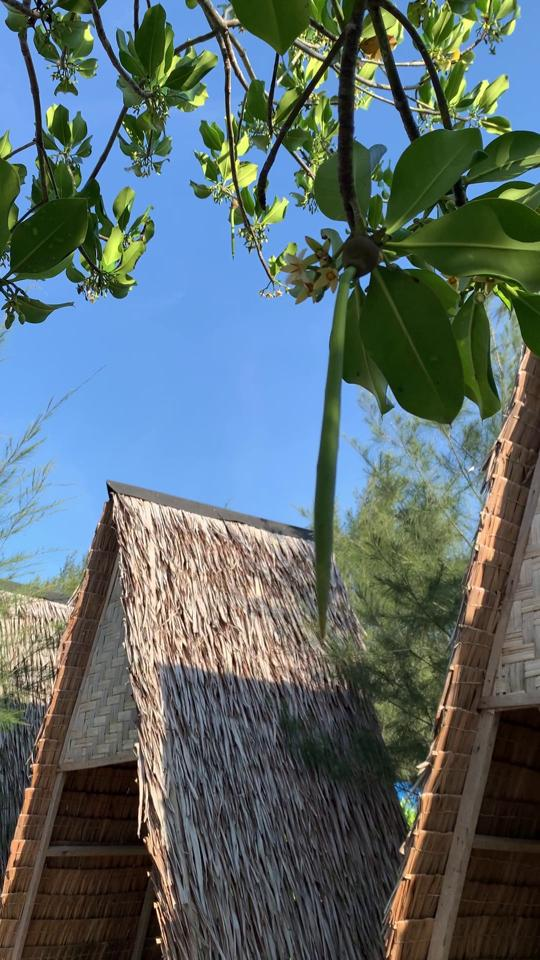mentah: (304, 223, 397, 651)
